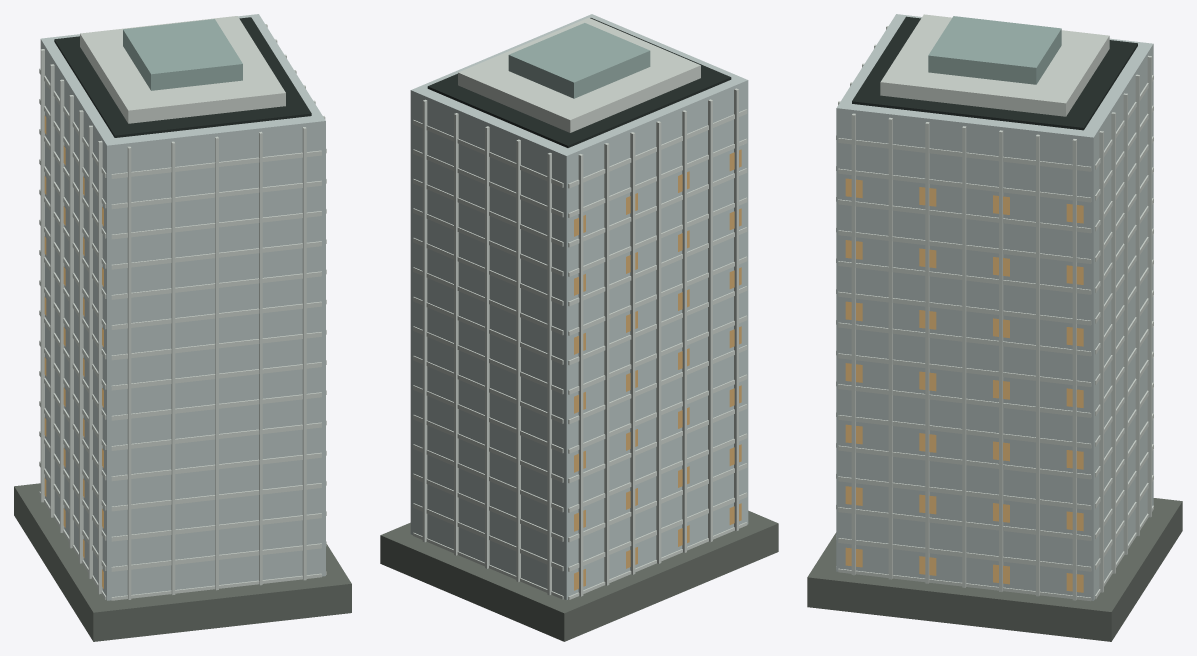
Rendered from china-overseas.glb.
The picture shows the model from 3 angles, left to right: view 1: azimuth 30°, elevation 25°; view 2: azimuth 150°, elevation 25°; view 3: azimuth 270°, elevation 25°; orthographic projection. The views are drawn at different scales.
Visible parts, largest first — view 1: envelope, fins, floor_bands, podium, crown_step, crown_screen, roof_deck, night_windows; view 2: envelope, fins, floor_bands, podium, crown_step, crown_screen, roof_deck, night_windows; view 3: envelope, fins, floor_bands, podium, crown_step, night_windows, crown_screen, roof_deck.
Boxes of the visible parts, bbox=[...] form: envelope: bbox=[40, 14, 325, 600]; fins: bbox=[40, 24, 325, 599]; floor_bands: bbox=[39, 68, 326, 600]; podium: bbox=[14, 483, 351, 641]; crown_step: bbox=[80, 16, 285, 123]; crown_screen: bbox=[123, 19, 242, 90]; roof_deck: bbox=[54, 17, 311, 137]; night_windows: bbox=[44, 115, 103, 588]; envelope: bbox=[410, 14, 748, 600]; fins: bbox=[422, 88, 738, 596]; floor_bands: bbox=[413, 109, 747, 599]; podium: bbox=[380, 510, 778, 641]; crown_step: bbox=[458, 17, 700, 132]; crown_screen: bbox=[508, 23, 650, 98]; roof_deck: bbox=[427, 18, 731, 147]; night_windows: bbox=[574, 149, 741, 590]; envelope: bbox=[836, 14, 1153, 600]; fins: bbox=[838, 26, 1151, 600]; floor_bands: bbox=[836, 75, 1153, 601]; podium: bbox=[807, 498, 1182, 641]; crown_step: bbox=[880, 14, 1109, 116]; night_windows: bbox=[845, 178, 1083, 592]; crown_screen: bbox=[928, 16, 1061, 84]; roof_deck: bbox=[852, 16, 1137, 130].
Bounding box in the file's own units: 62.89 × 106 × 68.41.
